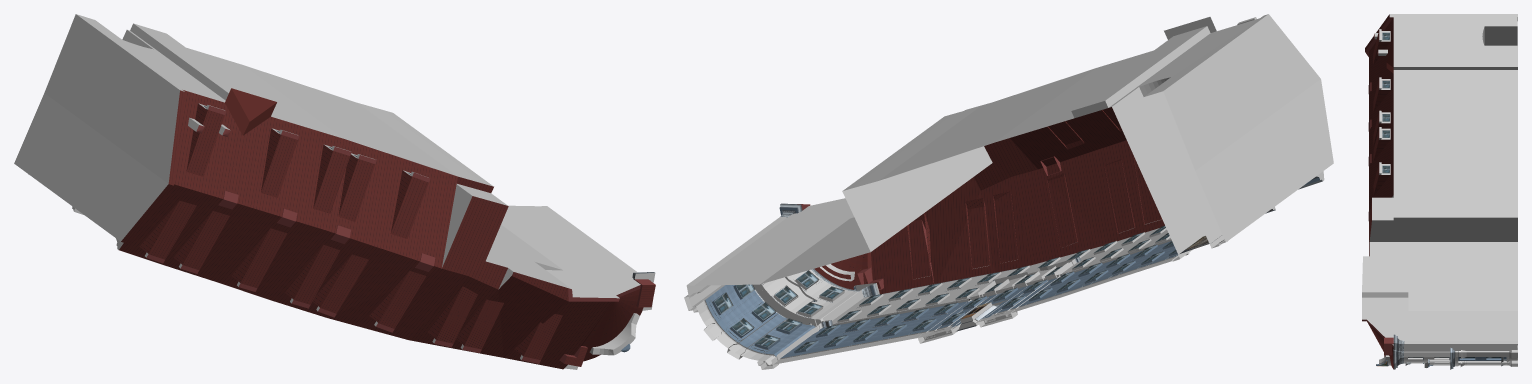
The model's file is Vana-Posti_11.obj.
3 views of the same model, side by side, from view 1: azimuth 30°, elevation 25°; view 2: azimuth 150°, elevation 25°; view 3: azimuth 270°, elevation 25° (orthographic). The views are drawn at different scales.
Visible parts, largest first — view 1: Vana_Posti_11; view 2: Vana_Posti_11; view 3: Vana_Posti_11.
Part boxes in pixels (x1,y1,x2,y2): Vana_Posti_11: [14, 14, 655, 369]; Vana_Posti_11: [684, 14, 1333, 369]; Vana_Posti_11: [1362, 14, 1517, 369].
Bounding box in the file's own units: 53.23 × 35.71 × 21.63.
